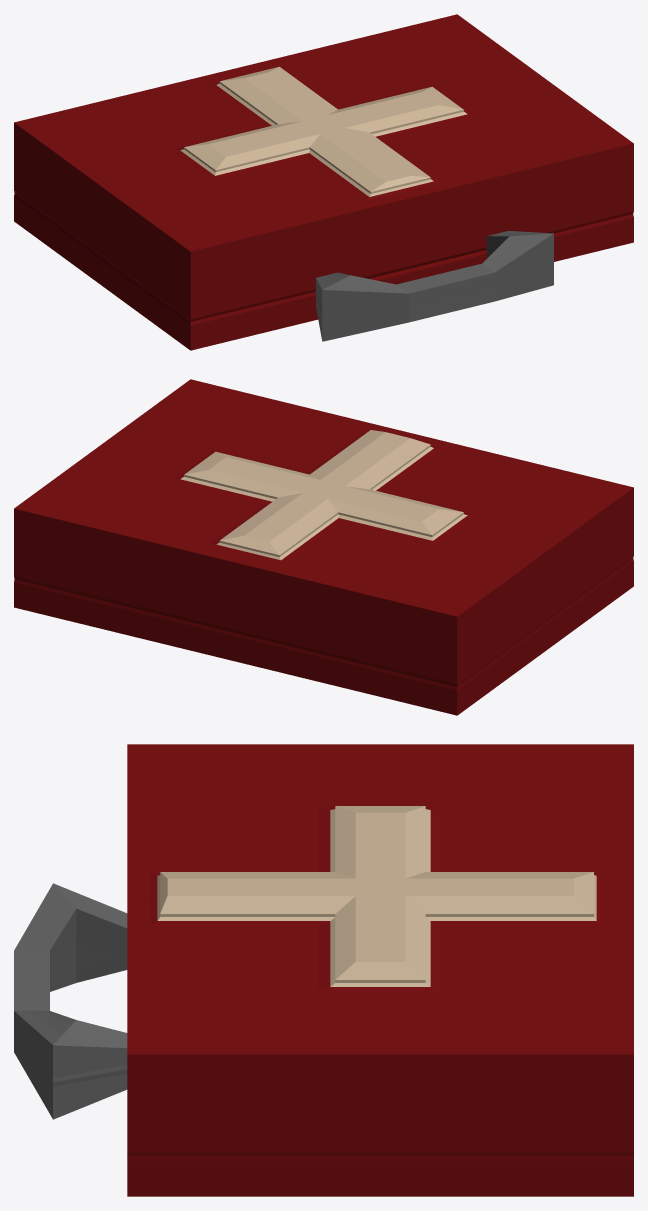
The model's file is medkit.fbx.
The picture shows the model from 3 angles, top to bottom: view 1: azimuth 30°, elevation 25°; view 2: azimuth 150°, elevation 25°; view 3: azimuth 270°, elevation 25°; orthographic projection. The views are drawn at different scales.
Visible parts, largest first — view 1: Cube; view 2: Cube; view 3: Cube.
Boxes of the visible parts, <box> form: Cube: <box>14,14,633,350</box>; Cube: <box>14,379,633,715</box>; Cube: <box>14,744,633,1196</box>.
Size of the model in its own units: 104 by 24.15 by 88.05.
